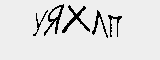Л: (92, 8, 108, 37)
П: (108, 15, 122, 39)
У: (33, 10, 45, 35)
Х: (60, 4, 92, 35)
Я: (44, 3, 62, 34)
